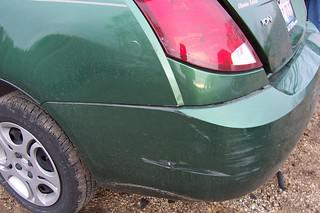rear-bumper-dent: (124, 109, 301, 192)
